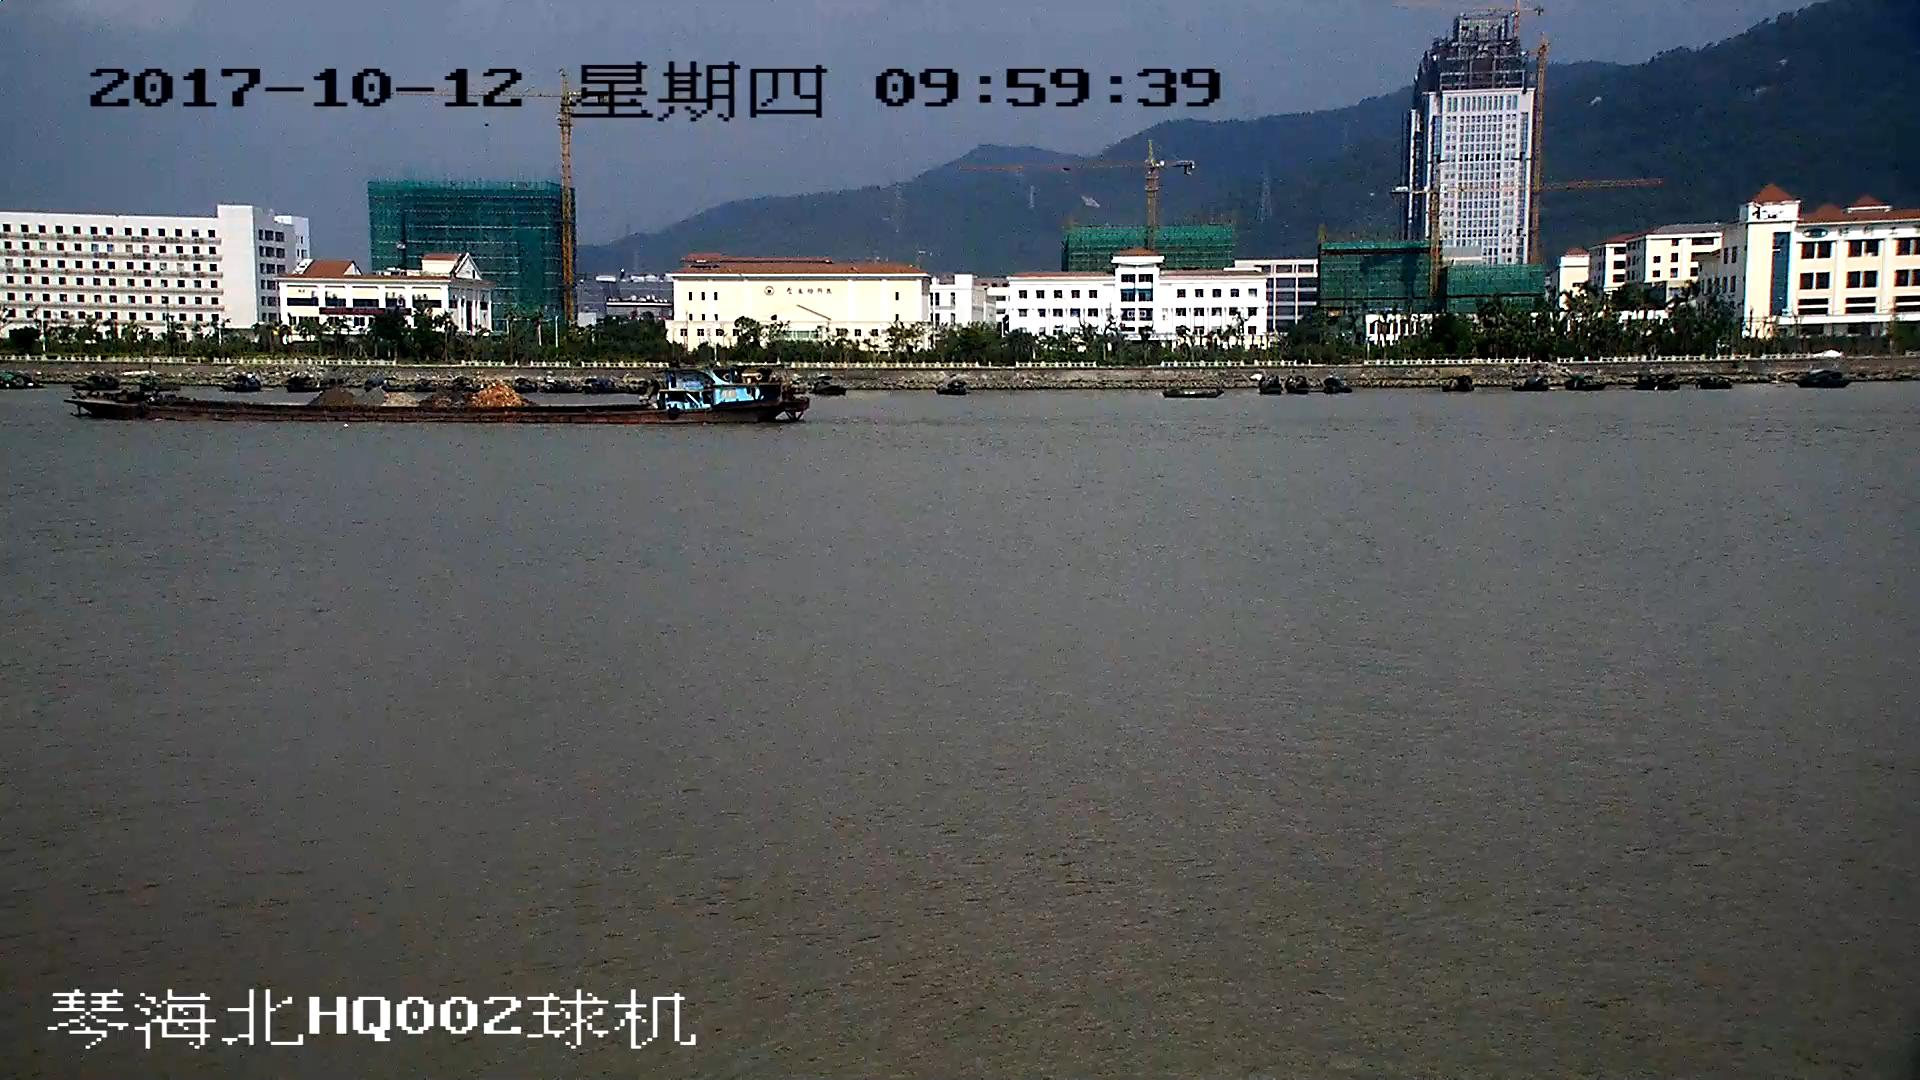ore carrier: (70, 360, 808, 431)
